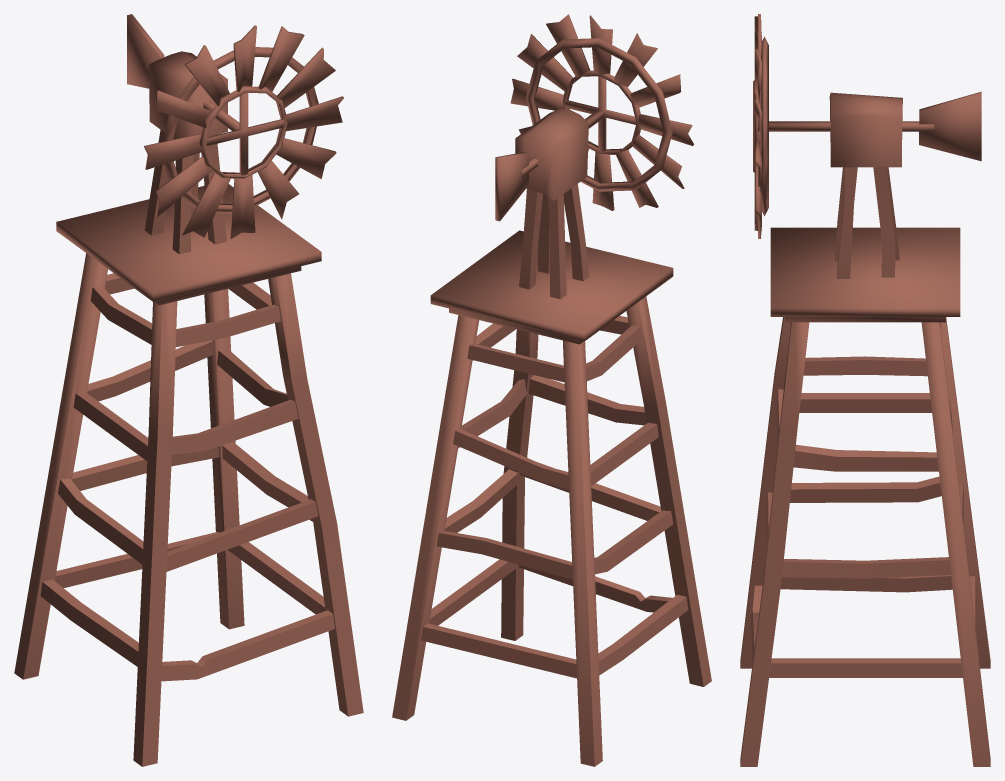
File: MoinhoVento.fbx
3 renders of one model, left to right at view 1: azimuth 30°, elevation 25°; view 2: azimuth 150°, elevation 25°; view 3: azimuth 270°, elevation 25°, orthographic. The views are drawn at different scales.
Parts seen in each view (by area): view 1: MoinhoVento.001; view 2: MoinhoVento.001; view 3: MoinhoVento.001.
Part boxes in pixels (x1=…): MoinhoVento.001: x1=14, y1=14, x2=363, y2=766; MoinhoVento.001: x1=392, y1=14, x2=711, y2=766; MoinhoVento.001: x1=740, y1=14, x2=990, y2=766.
Size of the model in its own units: 4.65 by 4.64 by 14.11.
